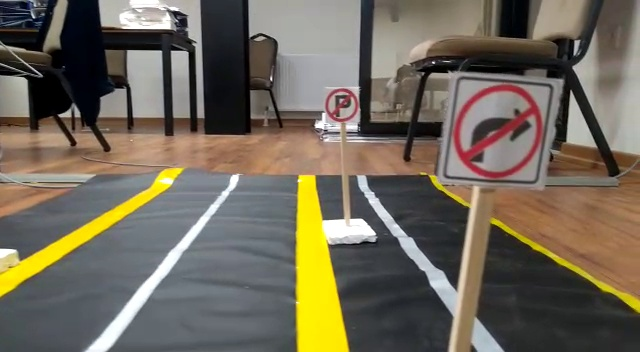park_yapilmaz: (322, 86, 362, 121)
saga_donulmez: (451, 72, 544, 185)
